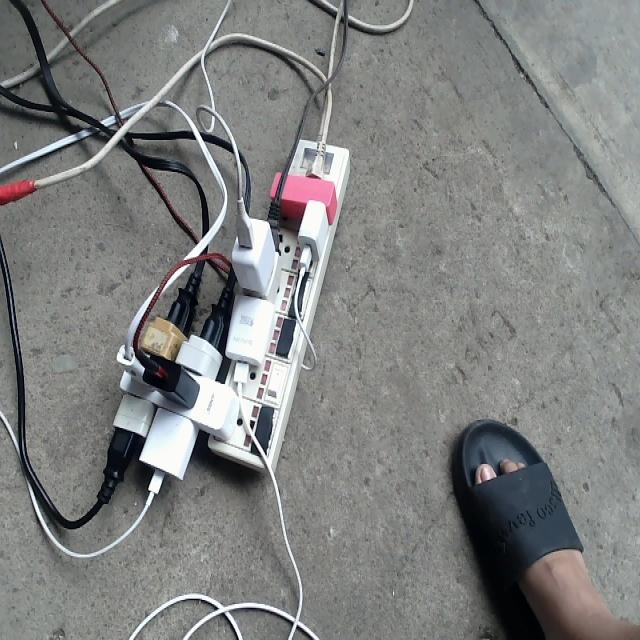-: (96, 138, 351, 502)
